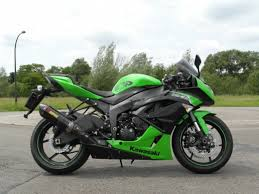moto: (24, 63, 236, 172)
